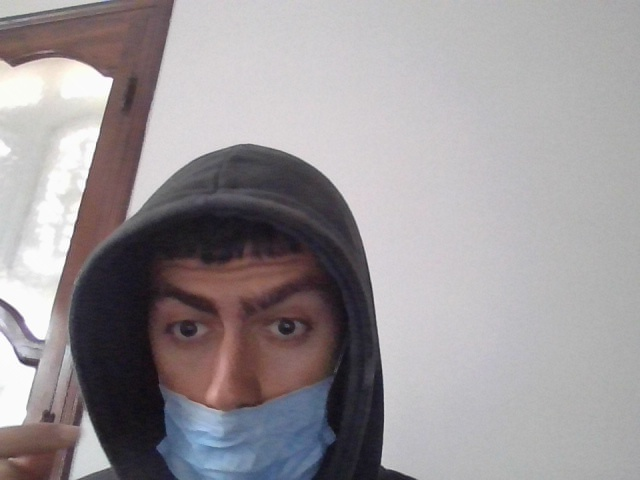mask_weared_incorrect: (132, 215, 343, 478)
